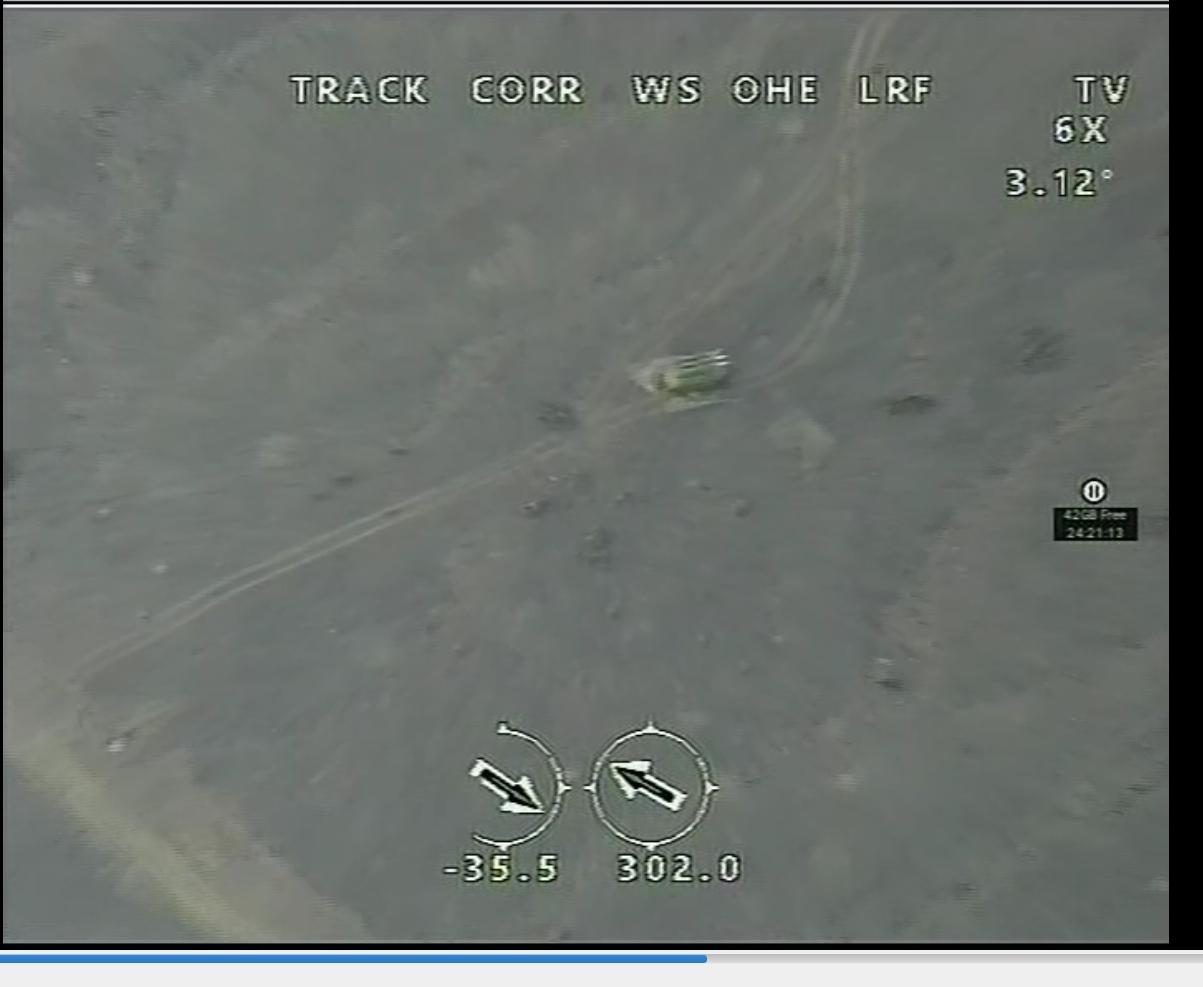armored_car: (656, 347, 736, 394)
